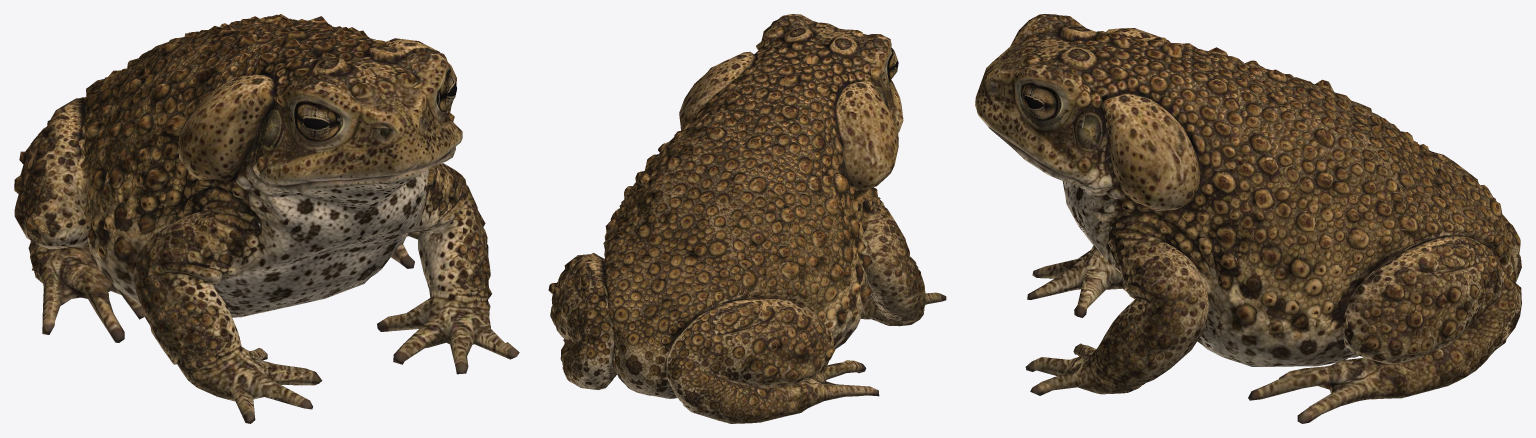
The model's file is toad.glb.
The picture shows the model from 3 angles, left to right: view 1: azimuth 30°, elevation 25°; view 2: azimuth 150°, elevation 25°; view 3: azimuth 270°, elevation 25°; orthographic projection. The views are drawn at different scales.
Bounding box in the file's own units: 1.45 × 1.14 × 1.9.
Materials: 1 (1 with a texture image).
